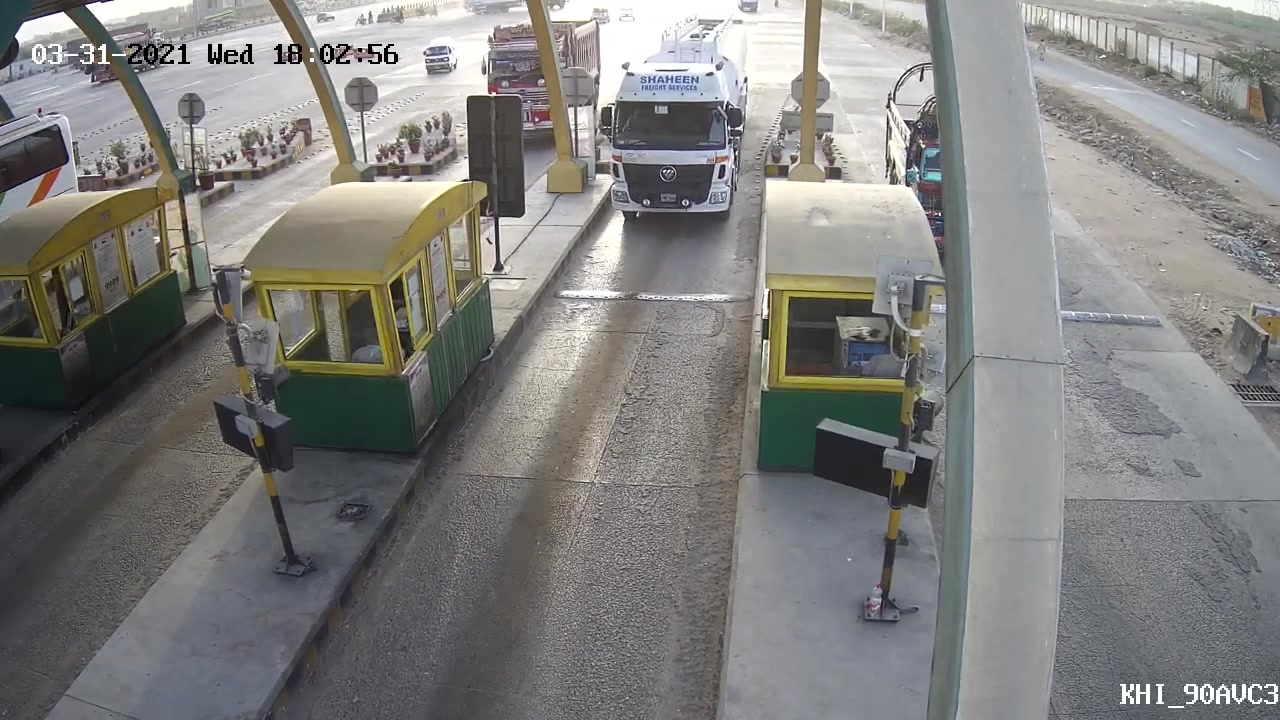F6: (590, 11, 755, 222)
